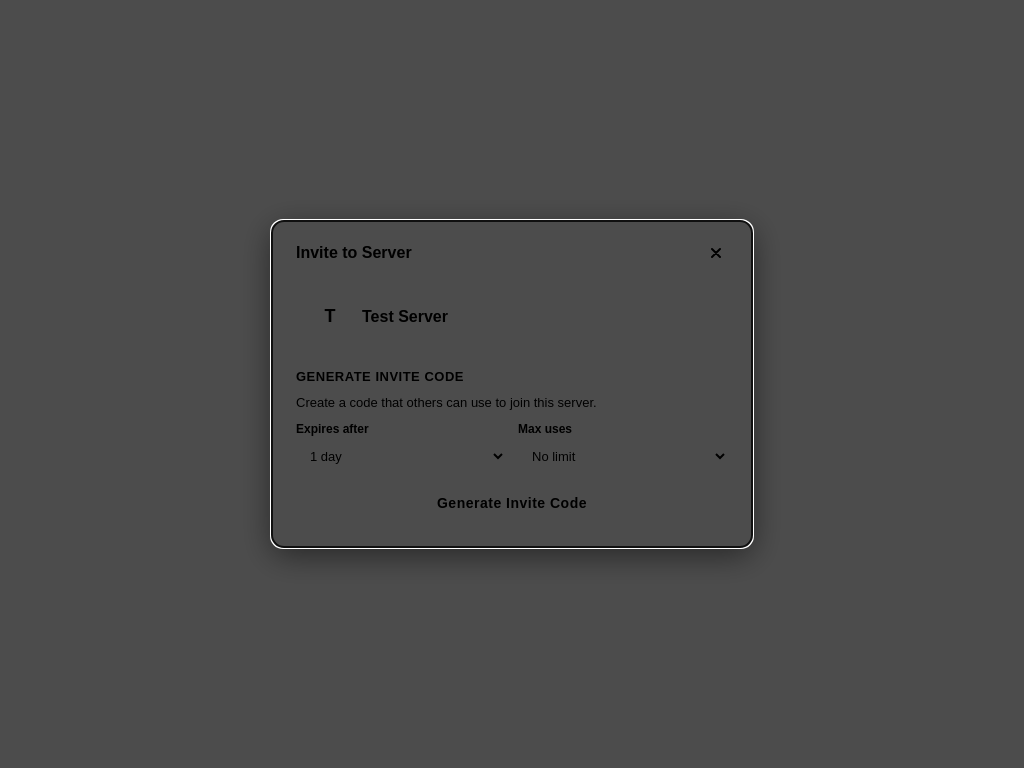
Test: InviteToServerModal › shows error when createInvite returns null
The width and height of the screenshot is (1024, 768).
Click the button with class "invite-generate-btn" at (512, 503), box [296,483,728,523]
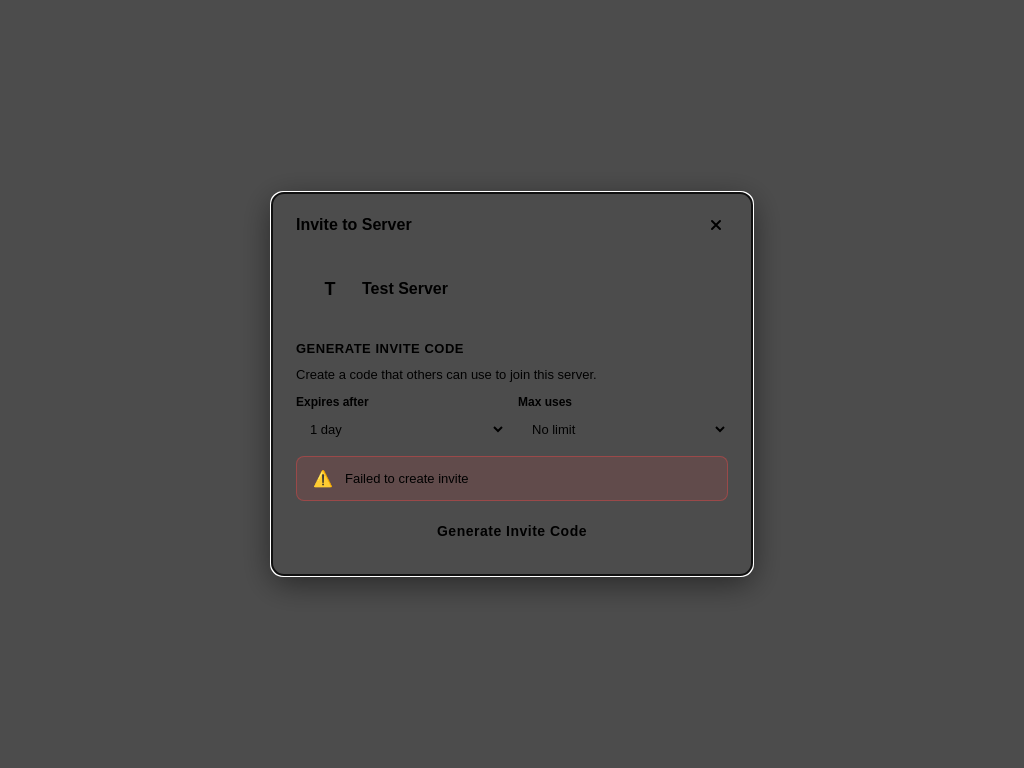
Result: the text "Failed to create invite" is shown at [345,471,469,486]
